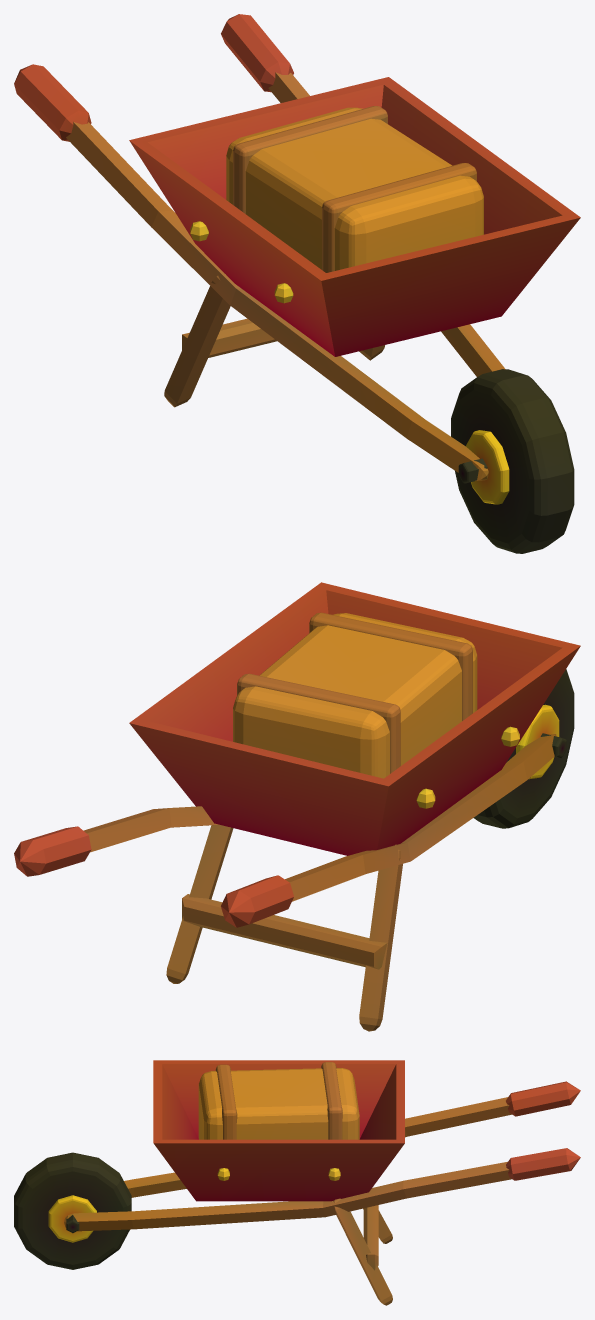
The model's file is Farm_Wheelbarrow_Hay.glb.
The picture shows the model from 3 angles, top to bottom: view 1: azimuth 30°, elevation 25°; view 2: azimuth 150°, elevation 25°; view 3: azimuth 270°, elevation 25°; orthographic projection. The views are drawn at different scales.
Parts seen in each view (by area): view 1: Farm_Wheelbarrow_Hay; view 2: Farm_Wheelbarrow_Hay; view 3: Farm_Wheelbarrow_Hay.
Part boxes in pixels (bbox=[...]): Farm_Wheelbarrow_Hay: bbox=[14, 14, 580, 553]; Farm_Wheelbarrow_Hay: bbox=[14, 582, 580, 1031]; Farm_Wheelbarrow_Hay: bbox=[14, 1060, 580, 1305].
Size of the model in its own units: 0.78 by 0.8236 by 2.25.
